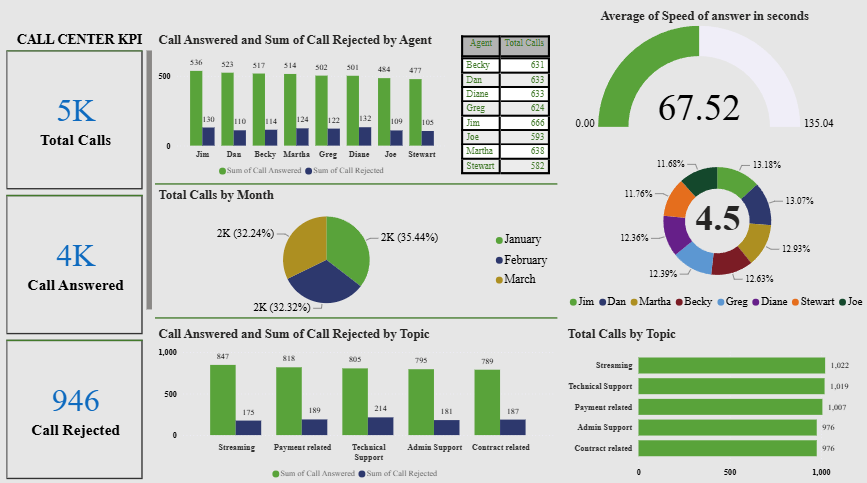

The dashboard page shown, as its layout file describes it:
{"tool":"powerbi","page":{"name":"Page 1","canvas":[1280,720],"ordinal":0},"visuals":[{"type":"cardVisual","title":"CALL CENTER KPI","fields":{"Data":["Sheet1.Total Calls","Sum(Sheet1.Call Answered)","Sum(Sheet1.Call Rejected)","Sum(Sheet1.Resolved Calls)","Sum(Sheet1.Unresolved Calls)"]},"box":[9.6,56.3,223.7,664.2],"z":0},{"type":"clusteredColumnChart","title":"Call Answered and Sum of Call Rejected by Agent","fields":{"Category":["Sheet1.Agent"],"Y":["Sum(Sheet1.Call Answered)","Sum(Sheet1.Call Rejected)"]},"box":[233.3,56.3,432.2,222.3],"z":1000},{"type":"tableEx","fields":{"Values":["Sheet1.Agent","Sheet1.Total Calls"]},"box":[675.1,56.3,146.8,222.3],"z":2000},{"type":"shape","box":[233.3,255.2,588.7,46.7],"z":3000},{"type":"pieChart","fields":{"Category":["Sheet1.Date.Variation.Date Hierarchy.Month"],"Y":["Sheet1.Total Calls"]},"box":[233.3,282.7,588.7,192.1],"z":4000},{"type":"shape","box":[233.3,451.5,588.7,46.7],"z":5000},{"type":"clusteredColumnChart","title":"Call Answered and Sum of Call Rejected by Topic","fields":{"Category":["Sheet1.Topic"],"Y":["Sum(Sheet1.Call Answered)","Sum(Sheet1.Call Rejected)"]},"box":[233.3,485.8,588.7,234.6],"z":6000},{"type":"barChart","title":"Total Calls by Topic","fields":{"Category":["Sheet1.Topic"],"Y":["Sheet1.Total Calls"]},"box":[831.6,485.8,448.7,230.5],"z":7000},{"type":"gauge","fields":{"Y":["Avg(Sheet1.Speed of answer in seconds)"]},"box":[831.6,20.6,411.7,183.9],"z":8000},{"type":"pieChart","fields":{"Category":["Sheet1.Agent"],"Y":["Sum(Sheet1.Satisfaction rating)"]},"box":[831.6,225,448.7,245.6],"z":9000},{"type":"card","fields":{"Values":["Sheet1.Target Rating"]},"box":[1000.3,255.2,111.1,137.2],"z":10000}]}

Visuals, with their boxes in screenshot pixels (x1, y1, x2, y2), scaled from the page's 1280x720 canvas onto the 867x483 screenshot:
"CALL CENTER KPI" cardVisual: {"left": 7, "top": 38, "right": 158, "bottom": 482}
"Call Answered and Sum of Call Rejected by Agent" clusteredColumnChart: {"left": 158, "top": 38, "right": 451, "bottom": 187}
tableEx - Sheet1.Agent x Sheet1.Total Calls: {"left": 457, "top": 38, "right": 557, "bottom": 187}
shape: {"left": 158, "top": 171, "right": 557, "bottom": 203}
pieChart - Sheet1.Date.Variation.Date Hierarchy.Month x Sheet1.Total Calls: {"left": 158, "top": 190, "right": 557, "bottom": 319}
shape: {"left": 158, "top": 303, "right": 557, "bottom": 334}
"Call Answered and Sum of Call Rejected by Topic" clusteredColumnChart: {"left": 158, "top": 326, "right": 557, "bottom": 482}
"Total Calls by Topic" barChart: {"left": 563, "top": 326, "right": 866, "bottom": 481}
gauge - Avg(Sheet1.Speed of answer in seconds): {"left": 563, "top": 14, "right": 842, "bottom": 137}
pieChart - Sheet1.Agent x Sum(Sheet1.Satisfaction rating): {"left": 563, "top": 151, "right": 866, "bottom": 316}
card - Sheet1.Target Rating: {"left": 678, "top": 171, "right": 753, "bottom": 263}
